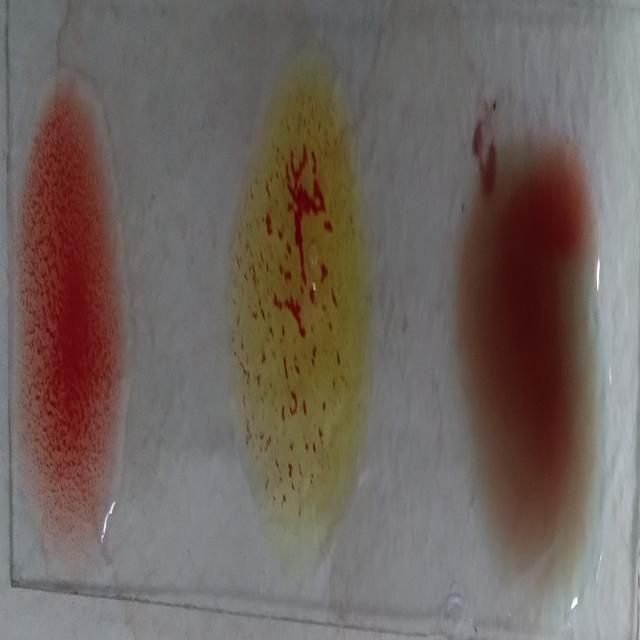B: (223, 44, 375, 555)
D: (8, 68, 131, 539)
